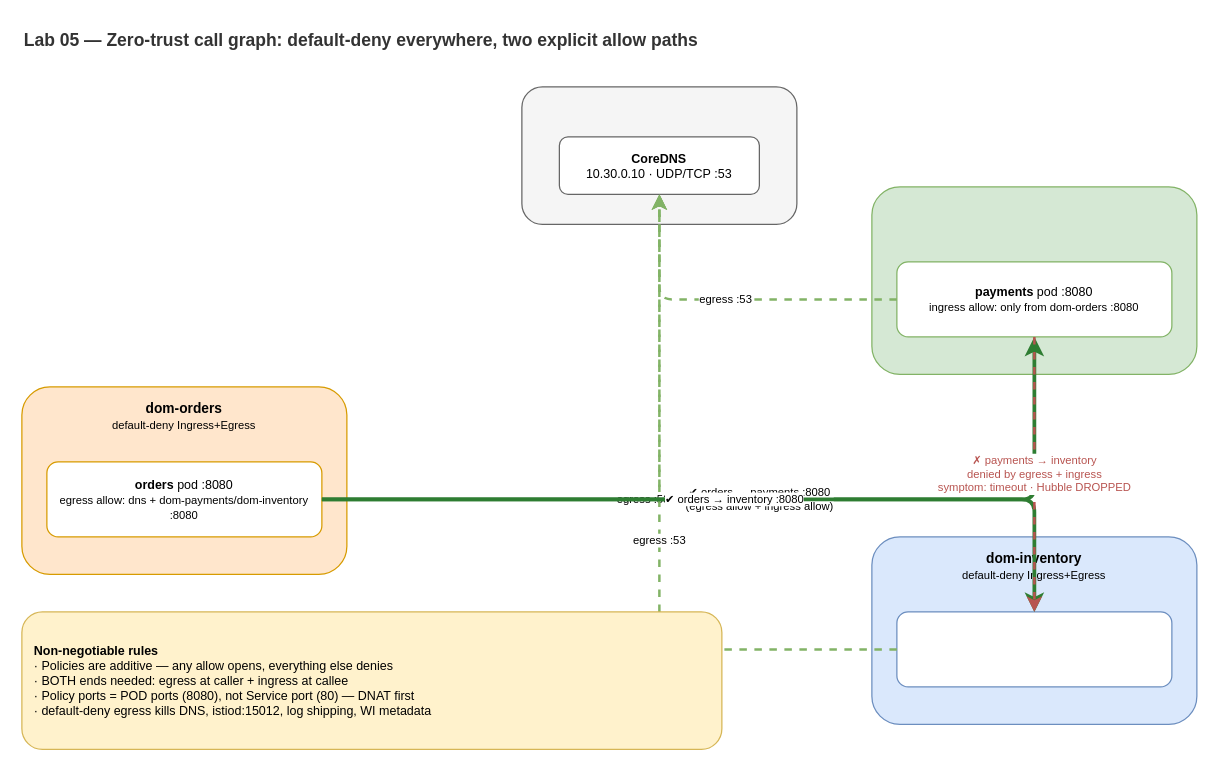
The diagram is 1219 pixels wide and 771 high, and some of its shapes have lost their labels. Here are the shapes that lost their labels. From the top down, the box of each, then its label:
(521, 86, 797, 224): kube-system
(871, 186, 1197, 374): dom-payments default-deny Ingress+Egress
(896, 611, 1172, 687): inventory pod :8080 ingress allow: only from dom-orders :8080
